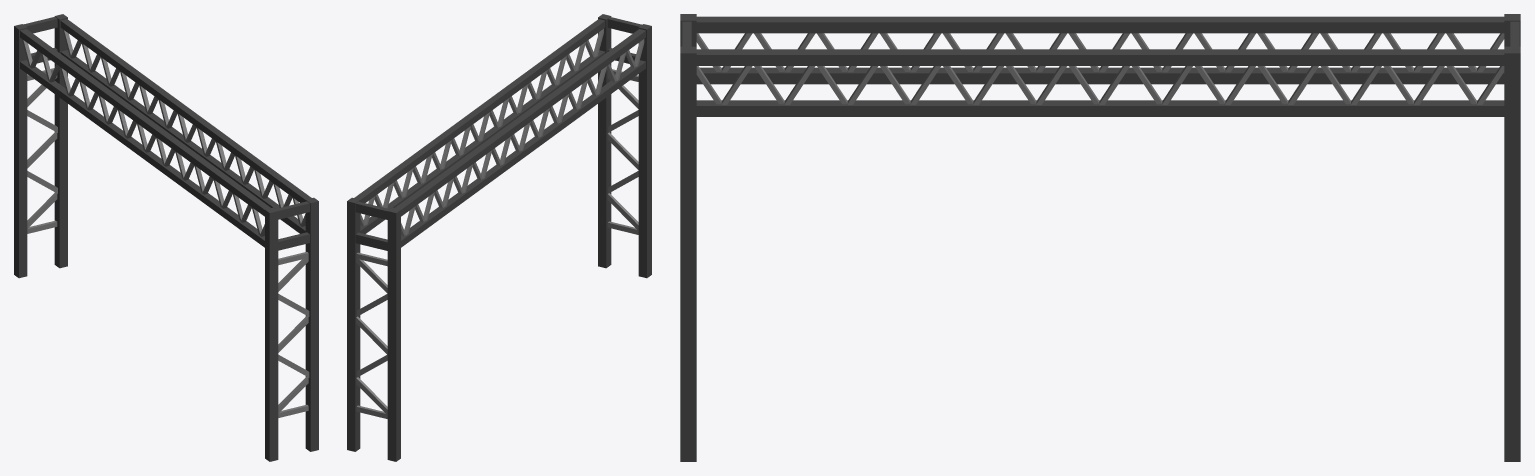
The model's file is SignHolder_4_A.fbx.
The picture shows the model from 3 angles, left to right: view 1: azimuth 30°, elevation 25°; view 2: azimuth 150°, elevation 25°; view 3: azimuth 270°, elevation 25°; orthographic projection. The views are drawn at different scales.
Parts seen in each view (by area): view 1: SignHolder_4_A; view 2: SignHolder_4_A; view 3: SignHolder_4_A.
Part boxes in pixels (left/top/right/bottom): SignHolder_4_A: left=14, top=14, right=318, bottom=461; SignHolder_4_A: left=347, top=14, right=651, bottom=461; SignHolder_4_A: left=680, top=14, right=1520, bottom=461.
Size of the model in its own units: 98.7 by 477 by 889.
